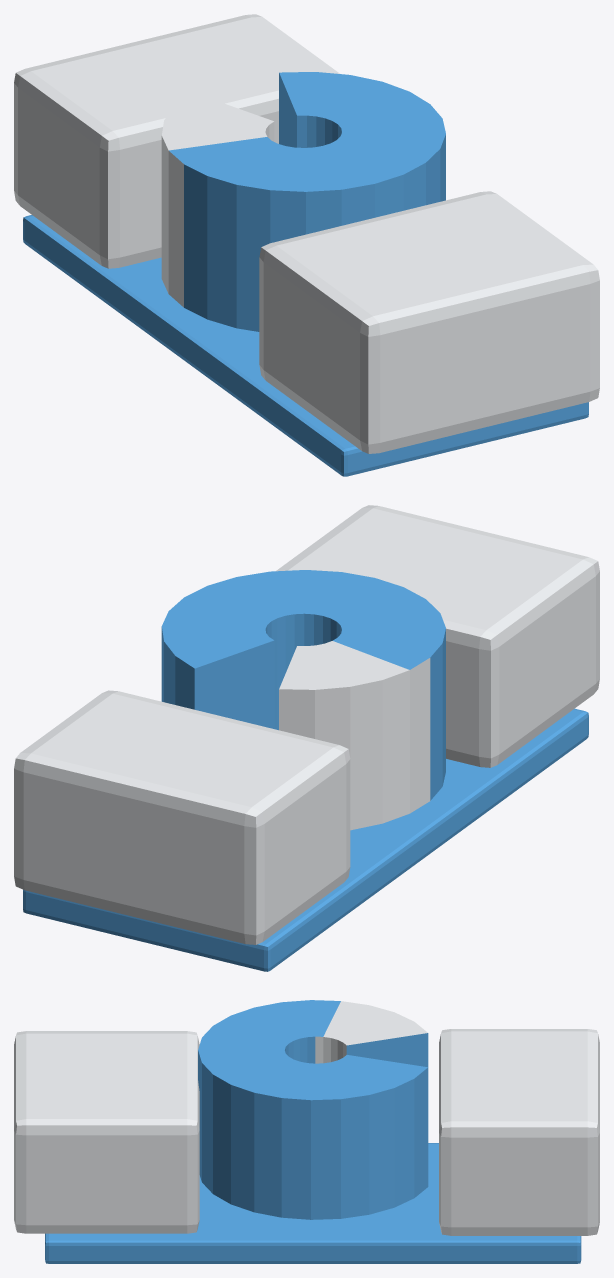
File: left_boot__ankle_cuff.glb
3 renders of one model, top to bottom at view 1: azimuth 30°, elevation 25°; view 2: azimuth 150°, elevation 25°; view 3: azimuth 270°, elevation 25°, orthographic. The views are drawn at different scales.
Visible parts, largest first — view 1: armor_armor_left_boot__ankle_cuff_v001_v001; view 2: armor_armor_left_boot__ankle_cuff_v001_v001; view 3: armor_armor_left_boot__ankle_cuff_v001_v001.
Part boxes in pixels (<box>): armor_armor_left_boot__ankle_cuff_v001_v001: <box>14,14,599,476</box>; armor_armor_left_boot__ankle_cuff_v001_v001: <box>14,505,599,971</box>; armor_armor_left_boot__ankle_cuff_v001_v001: <box>14,1000,599,1263</box>.
Bounding box in the file's own units: 0.115 × 0.088 × 0.284.
